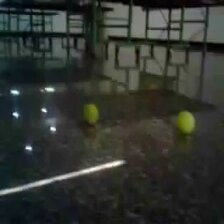tennis: (176, 110, 196, 135), (82, 103, 100, 125)
